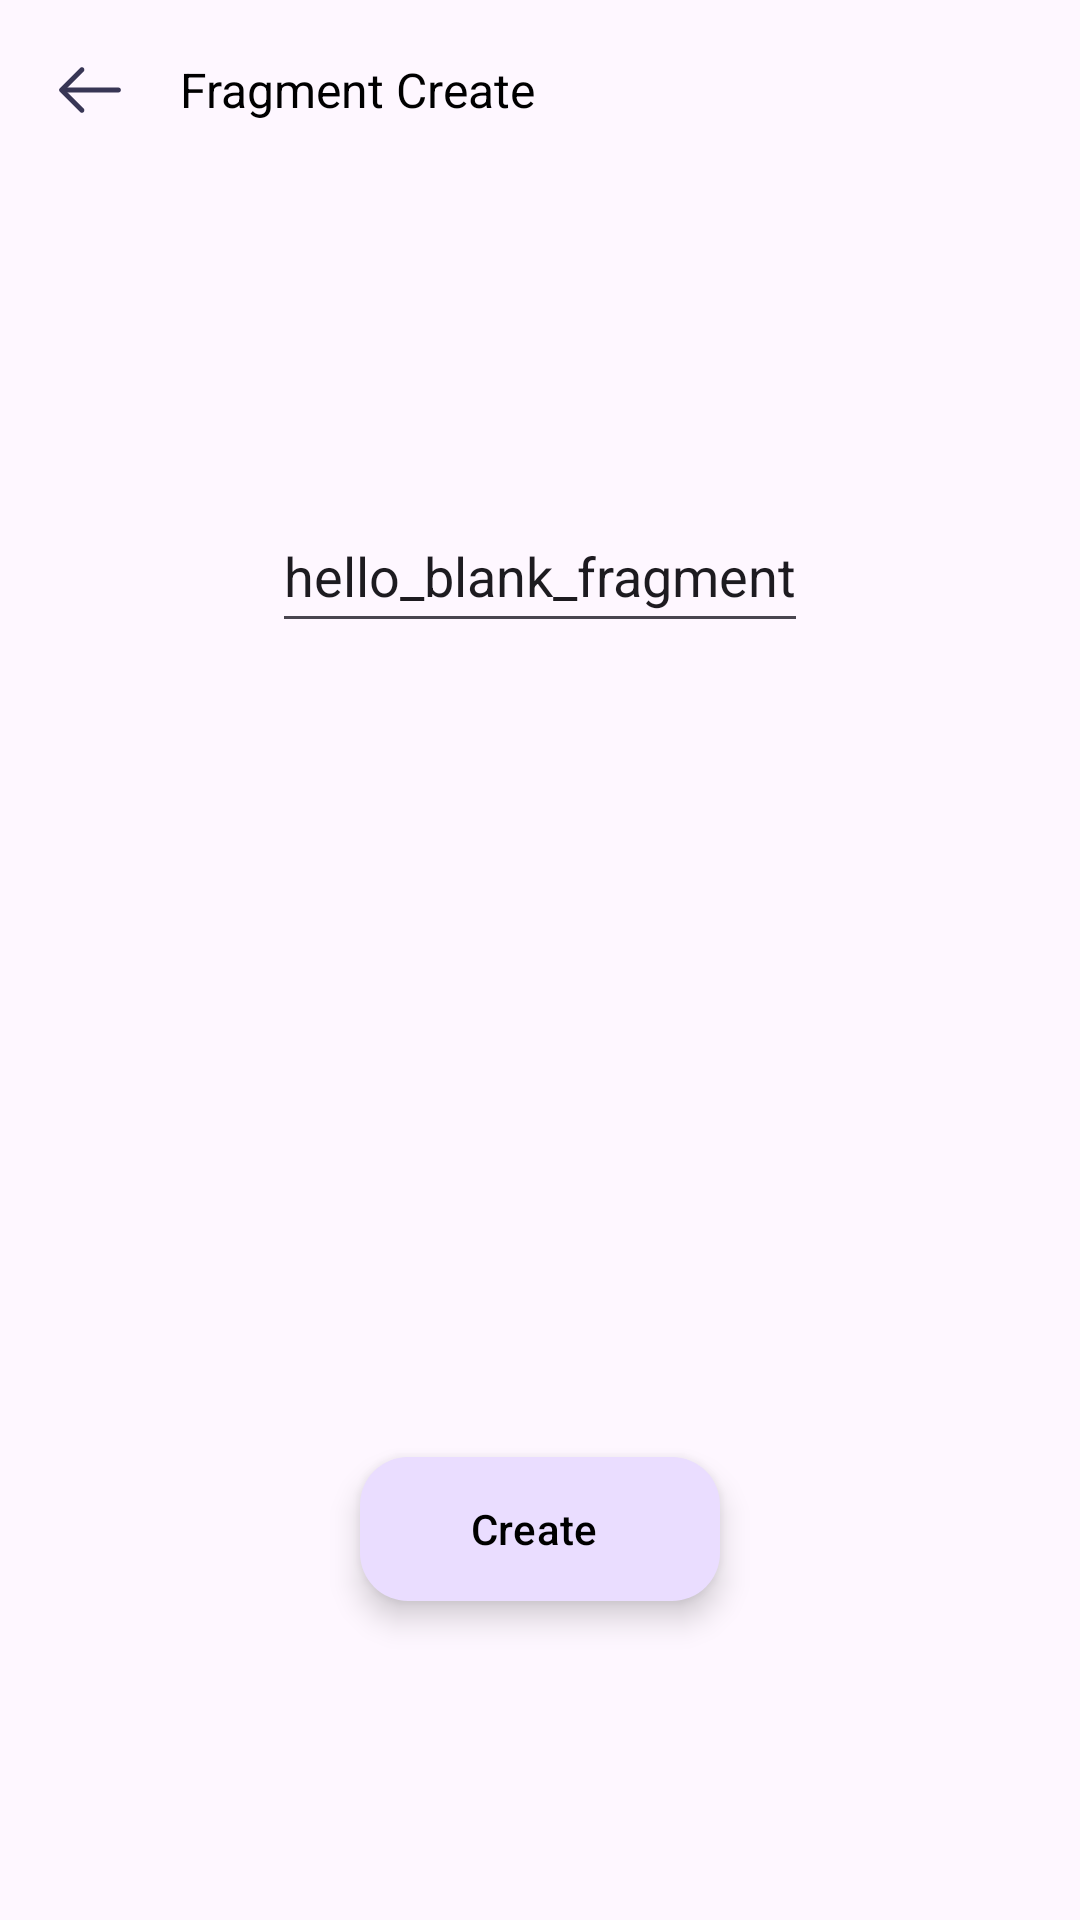

Point at icon controls on the screen. Image size 1080×1920, points as point (x, y).
back: point (90, 90)
